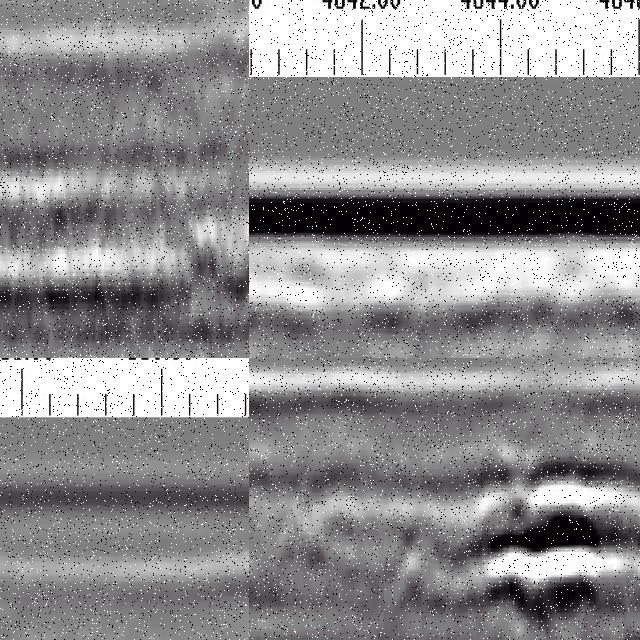loose: (411, 423, 640, 640), (1, 144, 61, 316)
